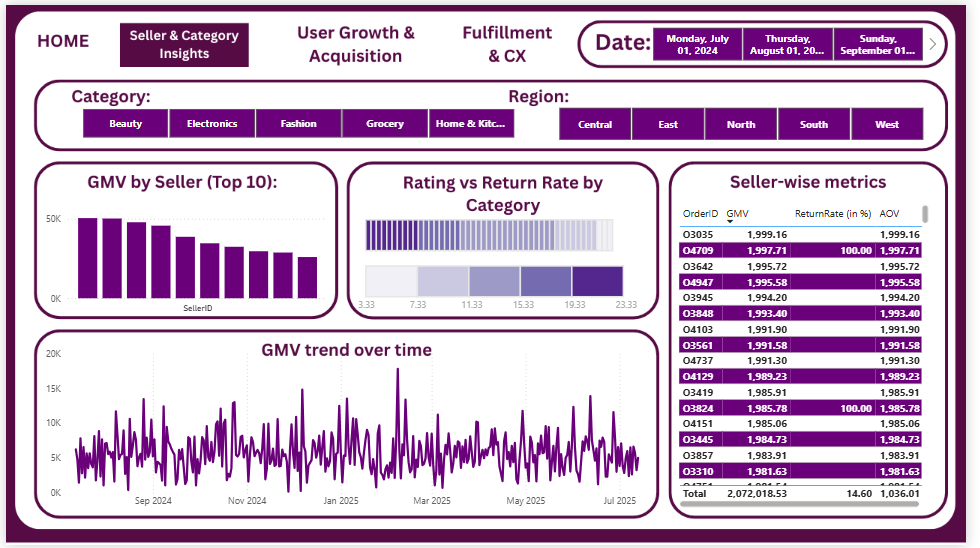

What the dashboard file says about the page in this screenshot:
{"tool":"powerbi","page":{"name":"Seller & Category Insights","canvas":[1280,720],"ordinal":1},"visuals":[{"type":"columnChart","fields":{"Y":["blank.GMV"],"Category":["sellers.SellerID"]},"box":[48.3,250,385,165],"z":0},{"type":"TableHeatMap1443716069308","fields":{"Category":["sellers.Rating"],"Y":["blank.ReturnRate (in %)"]},"box":[465,261.7,391.7,190],"z":1000},{"type":"lineChart","fields":{"Y":["blank.GMV"],"Category":["DateTable.Date.Variation.Date Hierarchy.Year","DateTable.Date.Variation.Date Hierarchy.Quarter","DateTable.Date.Variation.Date Hierarchy.Month","DateTable.Date.Variation.Date Hierarchy.Day"]},"box":[48.3,451.7,821.7,228.3],"z":2000},{"type":"tableEx","fields":{"Values":["orders.OrderID","blank.GMV","blank.ReturnRate (in %)","blank.AOV"]},"box":[891.7,261.7,343.3,413.3],"z":3000},{"type":"slicer","fields":{"Values":["orders.Category"]},"box":[76.7,131.7,625,51.7],"z":4000},{"type":"slicer","fields":{"Values":["sellers.Region"]},"box":[711.7,130,535,56.7],"z":5000},{"type":"slicer","fields":{"Values":["DateTable.Month"]},"box":[836.7,23.3,410,55],"z":6000},{"type":"actionButton","box":[372,23,185,66],"z":7000},{"type":"actionButton","box":[26,23,100,48],"z":8000},{"type":"actionButton","box":[590,23,160,66],"z":9000}]}

Visuals, with their boxes in screenshot pixels (x1, y1, x2, y2), scaled from the page's 1280x720 canvas onto the 980x548 screenshot:
columnChart - blank.GMV x sellers.SellerID: bbox=(37, 190, 332, 316)
TableHeatMap1443716069308 - sellers.Rating x blank.ReturnRate (in %): bbox=(356, 199, 656, 344)
lineChart - blank.GMV x DateTable.Date.Variation.Date Hierarchy.Year: bbox=(37, 344, 666, 518)
tableEx - orders.OrderID x blank.GMV: bbox=(683, 199, 946, 514)
slicer - orders.Category: bbox=(59, 100, 537, 140)
slicer - sellers.Region: bbox=(545, 99, 955, 142)
slicer - DateTable.Month: bbox=(641, 18, 955, 60)
actionButton: bbox=(285, 18, 426, 68)
actionButton: bbox=(20, 18, 96, 54)
actionButton: bbox=(452, 18, 574, 68)
